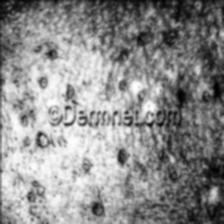Toxin: (0, 130, 221, 224), (0, 37, 224, 103)
